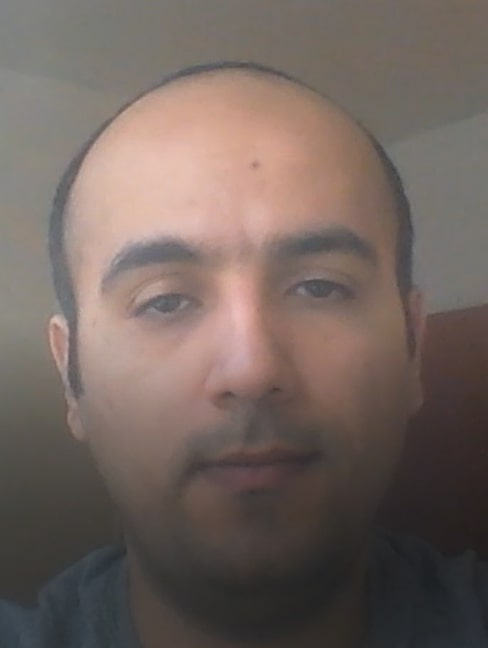Not Sleeping: (92, 236, 405, 345)
